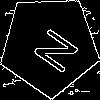N: (24, 20, 80, 76)
